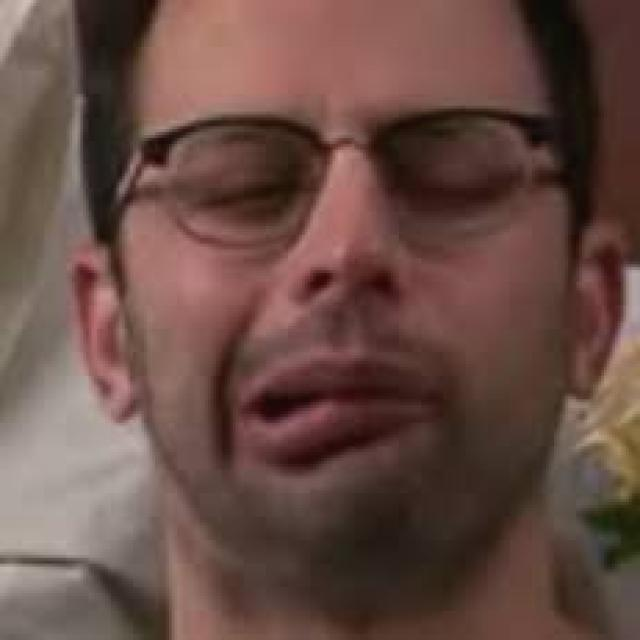stroke_face: (74, 40, 594, 557)
